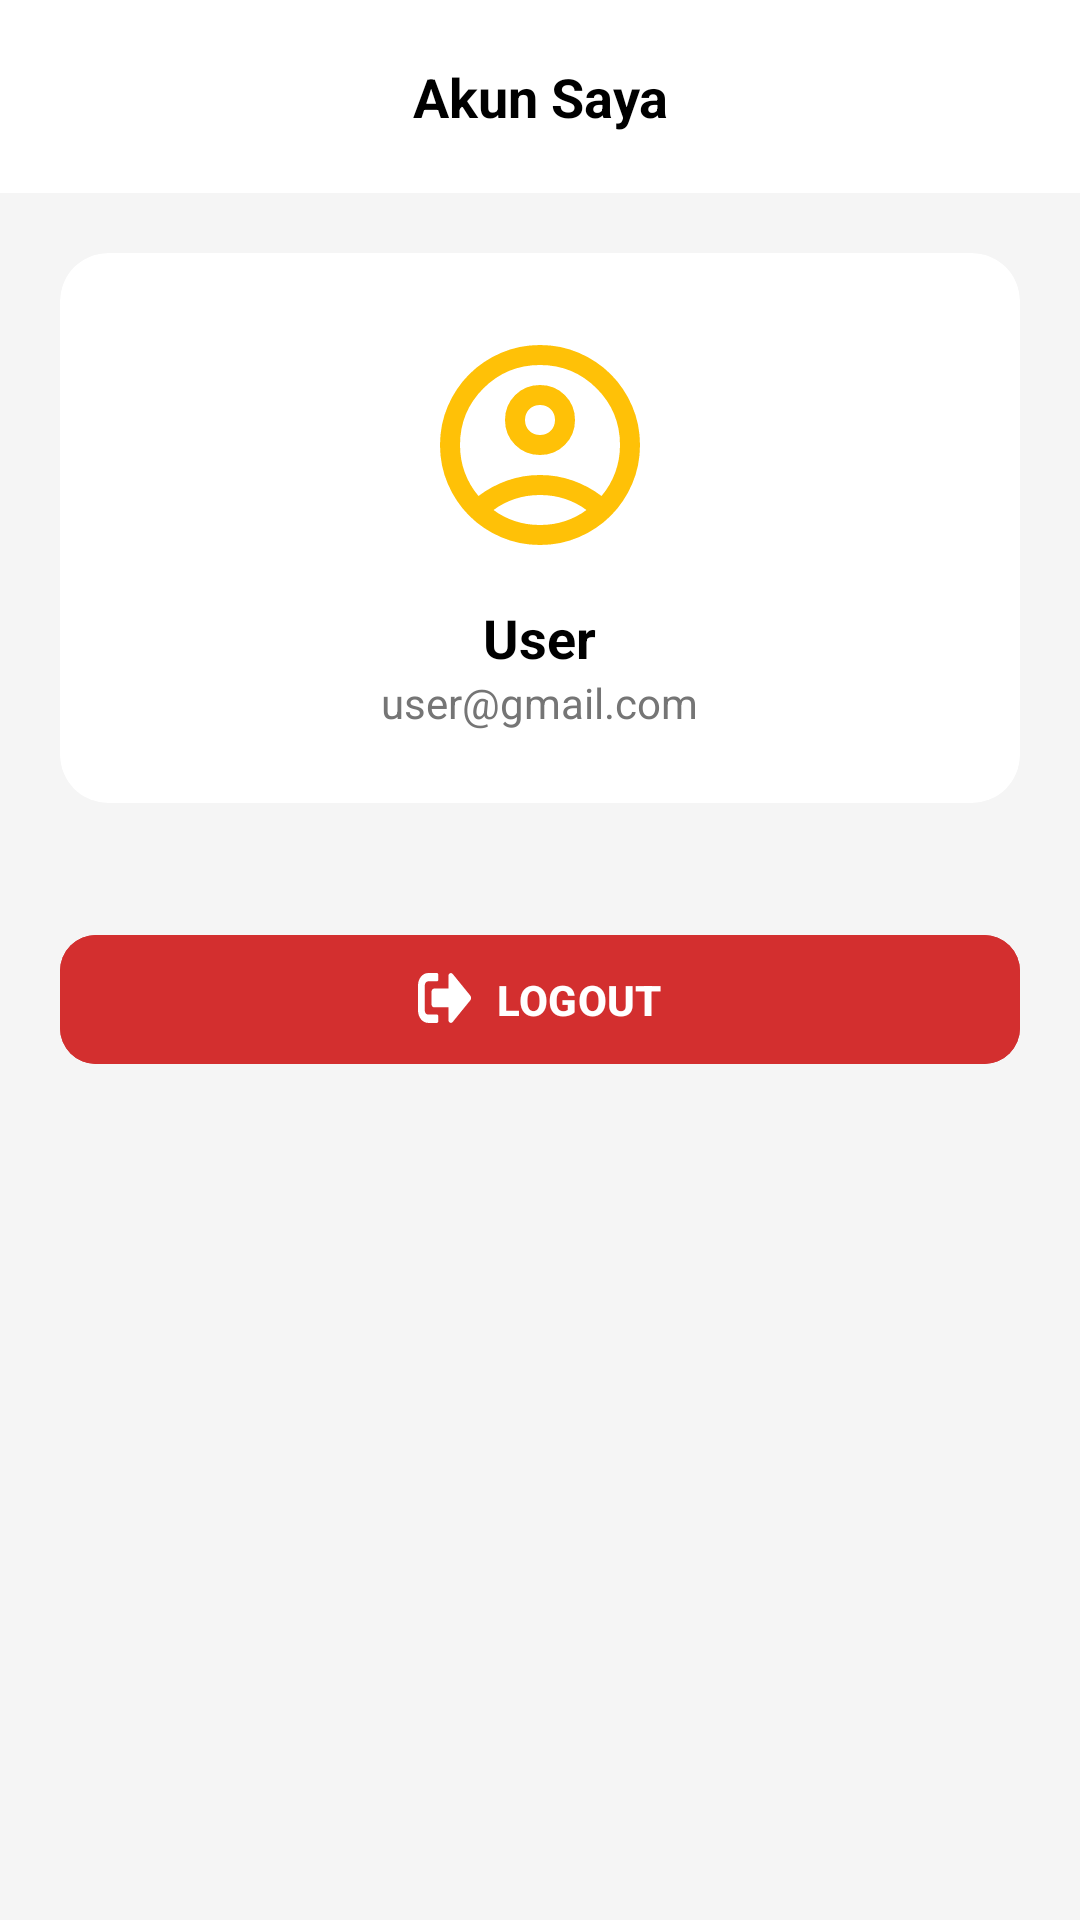

Screen size 1080px x 1920px. Icon name, then its box in pixels as (x1, y1, x2, y2):
foto profil: (440, 345, 640, 545)
